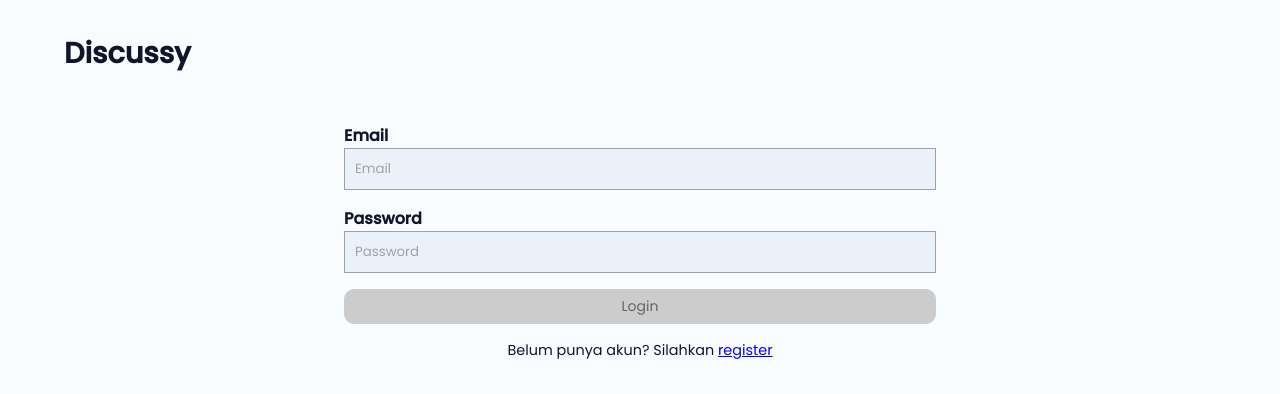
Test: Login spec › should show password invalid message when password is empty
Click the password field with placeholder "Password" at [640, 252], box [344,231,936,273]
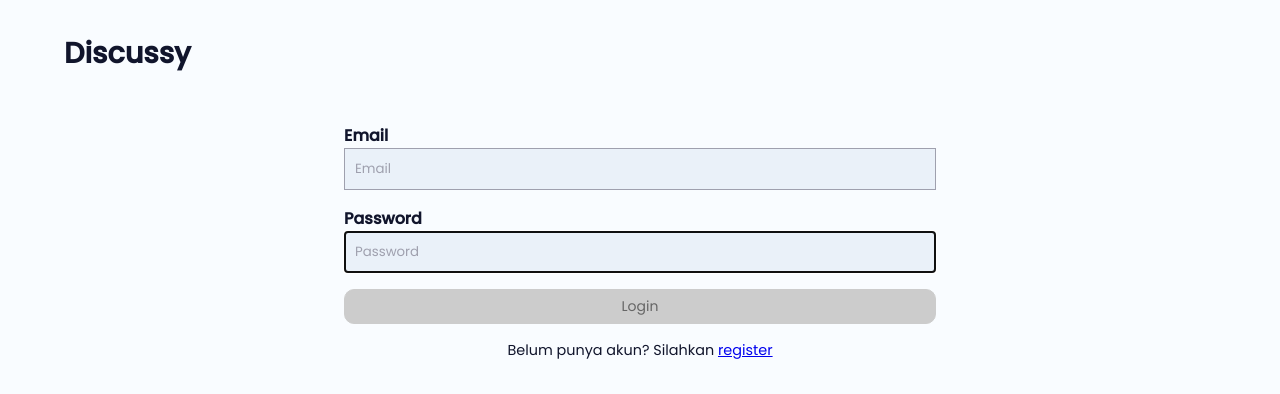
Click the element that starts with "Discussy" at [0, 0], box [0,0,1279,361]
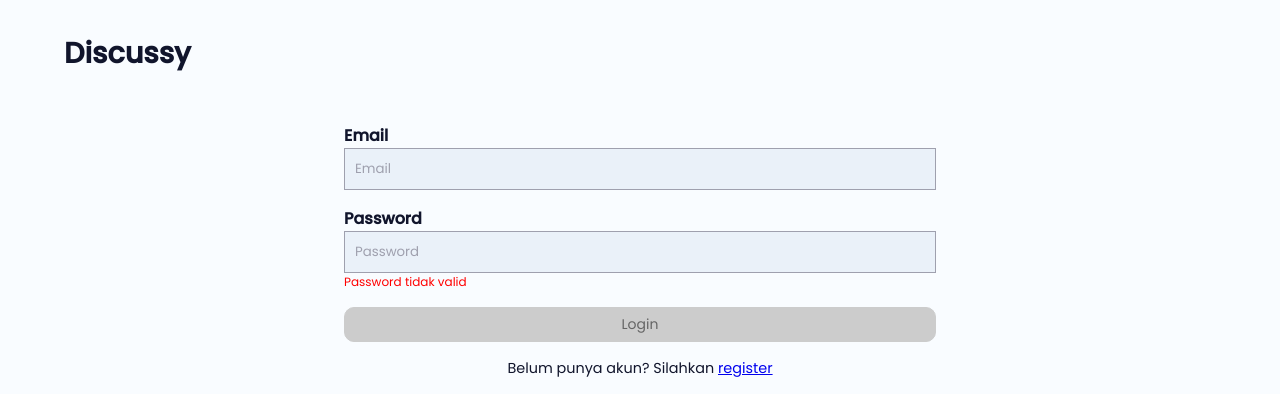
Expected: the text "Password tidak valid" is shown, [344,273,467,290]
